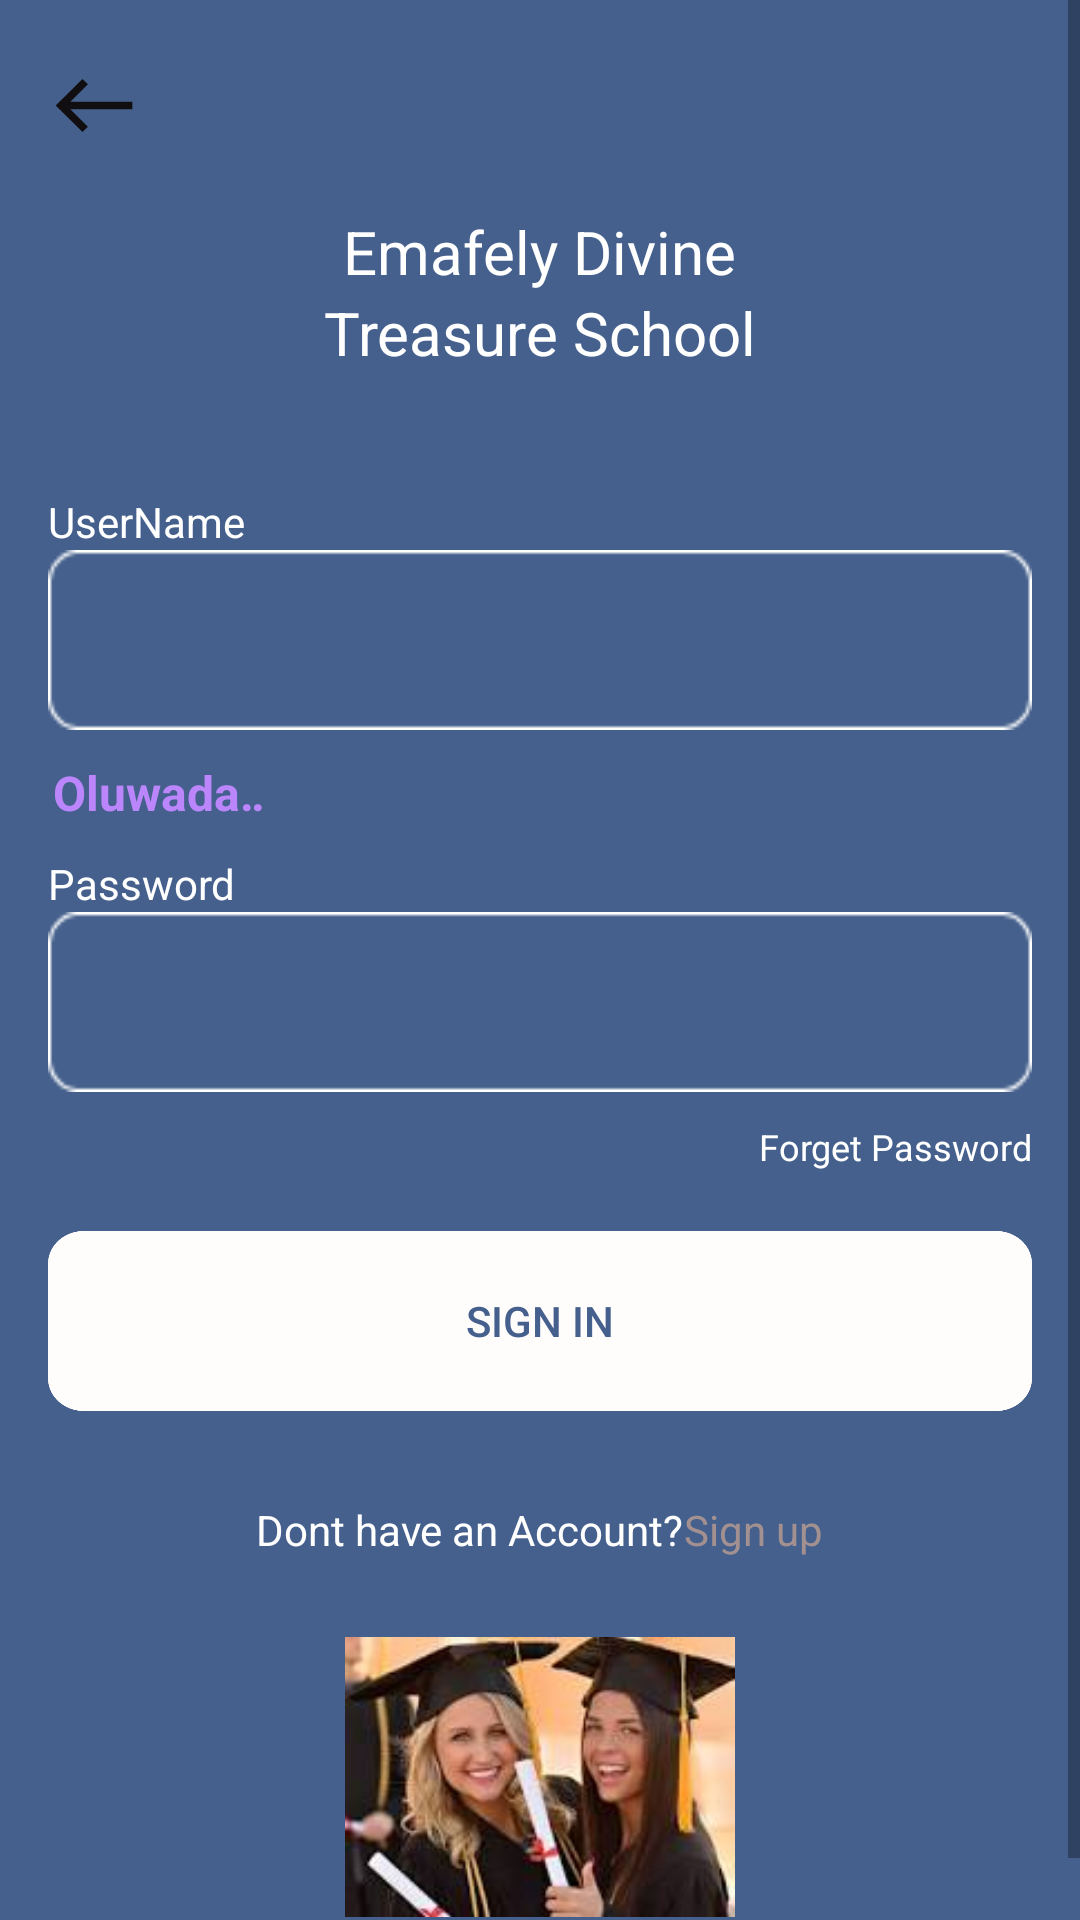

Icons on this 1080px×1920px Android screen, each with the point to tap as (x=x, y=y):
west: (x=94, y=105)
